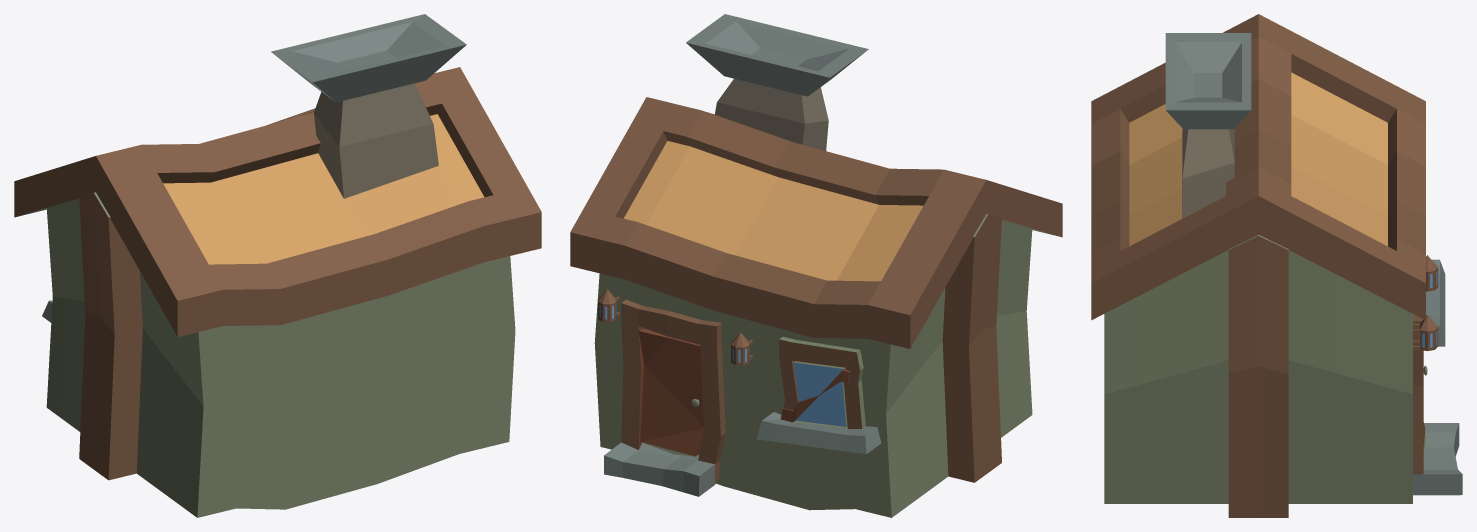
The model's file is C_Casinha3.fbx.
3 views of the same model, side by side, from view 1: azimuth 30°, elevation 25°; view 2: azimuth 150°, elevation 25°; view 3: azimuth 270°, elevation 25° (orthographic). The views are drawn at different scales.
Visible parts, largest first — view 1: Cube; view 2: Cube; view 3: Cube.
Boxes of the visible parts, x1,y1,x2,y2 form: Cube: (14,14,541,517); Cube: (570,14,1062,517); Cube: (1091,14,1462,517).
Size of the model in its own units: 577 by 576 by 484.
